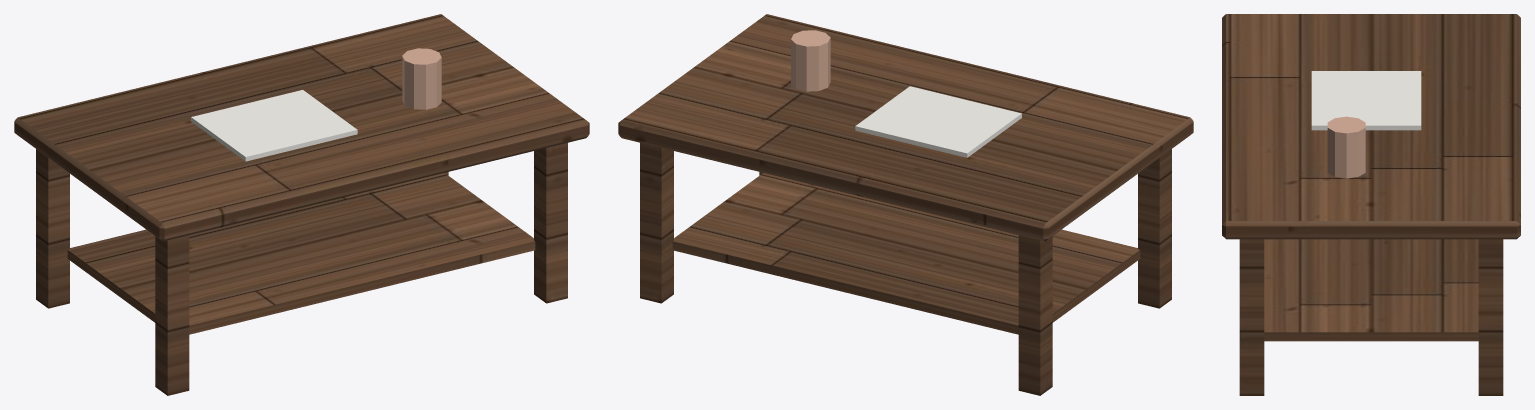
Rendered from coffee_table.glb.
The picture shows the model from 3 angles, left to right: view 1: azimuth 30°, elevation 25°; view 2: azimuth 150°, elevation 25°; view 3: azimuth 270°, elevation 25°; orthographic projection.
Parts seen in each view (by area): view 1: coffee_table_dkwood, coffee_table_paper, coffee_table_pot; view 2: coffee_table_dkwood, coffee_table_paper, coffee_table_pot; view 3: coffee_table_dkwood, coffee_table_paper, coffee_table_pot.
Part boxes in pixels (left/top/right/bottom): coffee_table_dkwood: left=14, top=14, right=589, bottom=395; coffee_table_paper: left=191, top=90, right=357, bottom=161; coffee_table_pot: left=402, top=48, right=441, bottom=109; coffee_table_dkwood: left=618, top=14, right=1193, bottom=395; coffee_table_paper: left=855, top=86, right=1021, bottom=157; coffee_table_pot: left=791, top=30, right=830, bottom=91; coffee_table_dkwood: left=1222, top=14, right=1520, bottom=395; coffee_table_paper: left=1311, top=71, right=1421, bottom=130; coffee_table_pot: left=1327, top=116, right=1365, bottom=178.
Bounding box in the file's own units: 1 × 0.5 × 0.6.
Materials: 3 (1 with a texture image).
